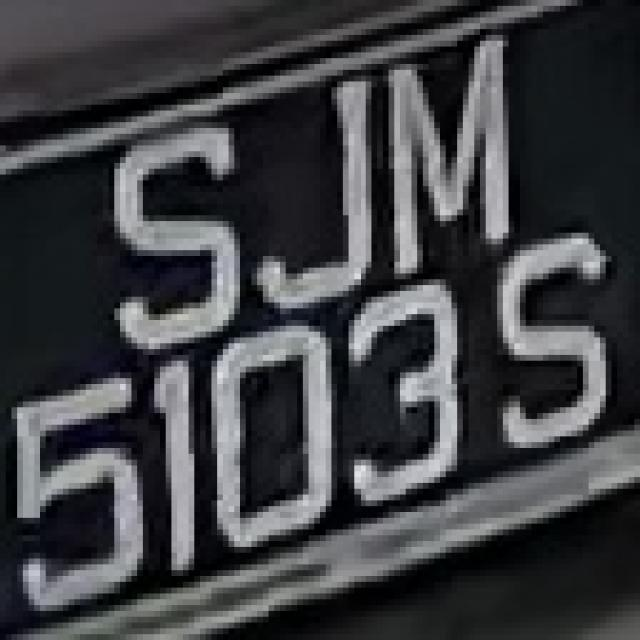0: (212, 326, 337, 553)
1: (143, 332, 211, 599)
3: (320, 279, 480, 506)
5: (17, 372, 137, 611)
J: (234, 87, 394, 303)
M: (371, 46, 526, 262)
S: (86, 116, 246, 361), (474, 238, 623, 460)
